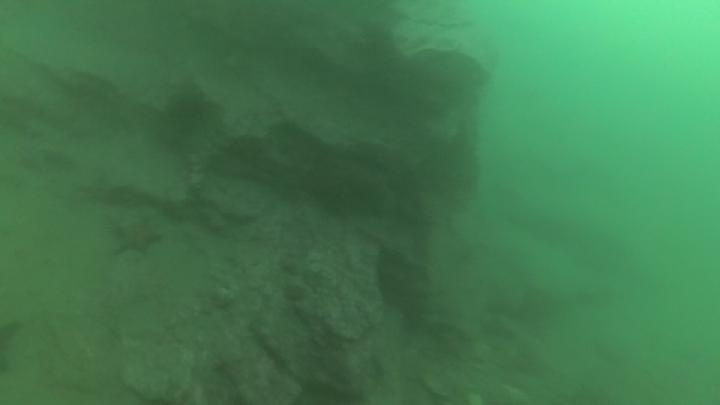echinus: (157, 88, 217, 151)
starfish: (109, 214, 165, 260)
